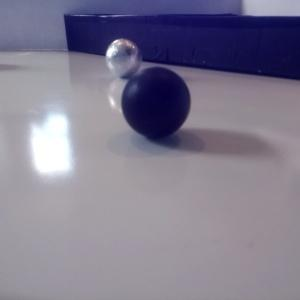zone: (64, 13, 300, 80)
